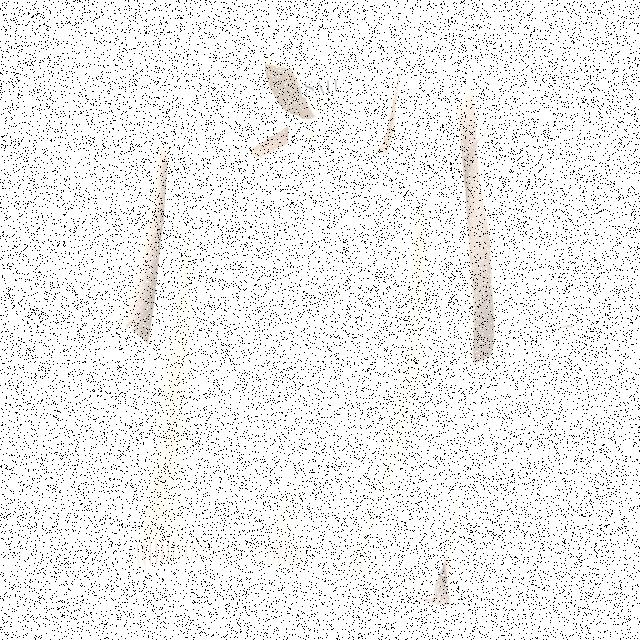dress: (73, 21, 582, 610)
